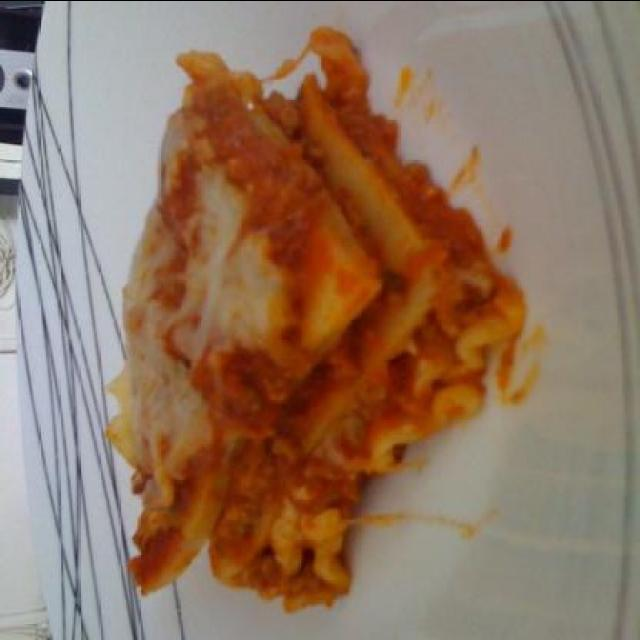Lasagna: (98, 10, 538, 638)
